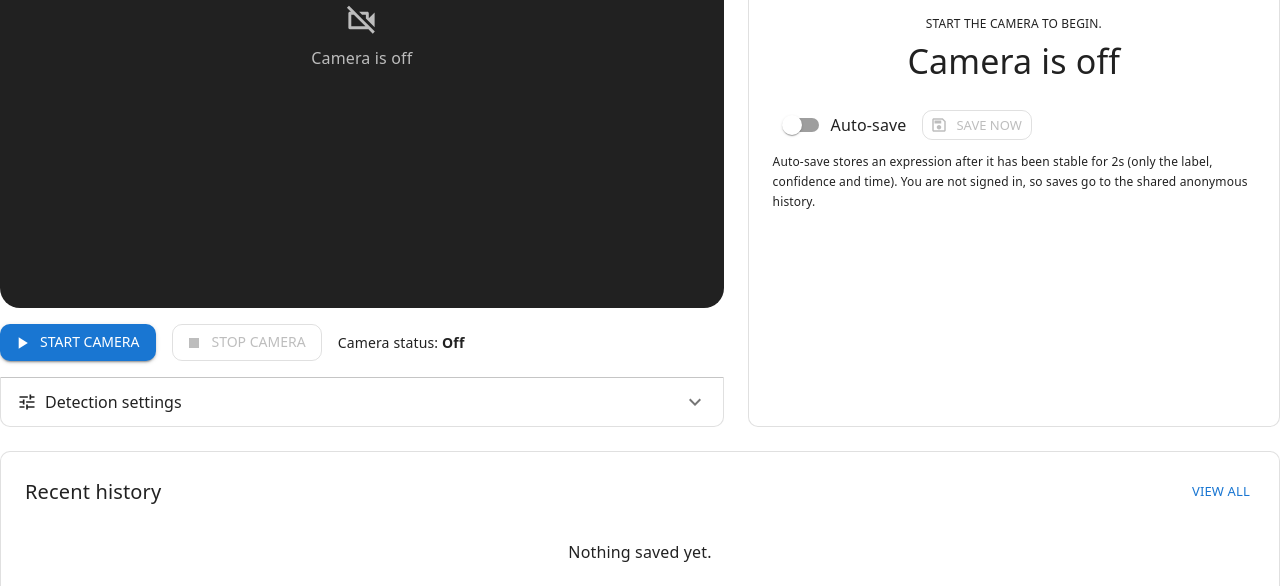
Test: HomePage › explains how to fix a denied camera permission
The image size is (1280, 586).
(page scrolled)
Click the button "Start camera".
click(78, 343)  # box [0,324,156,361]
(page scrolled)
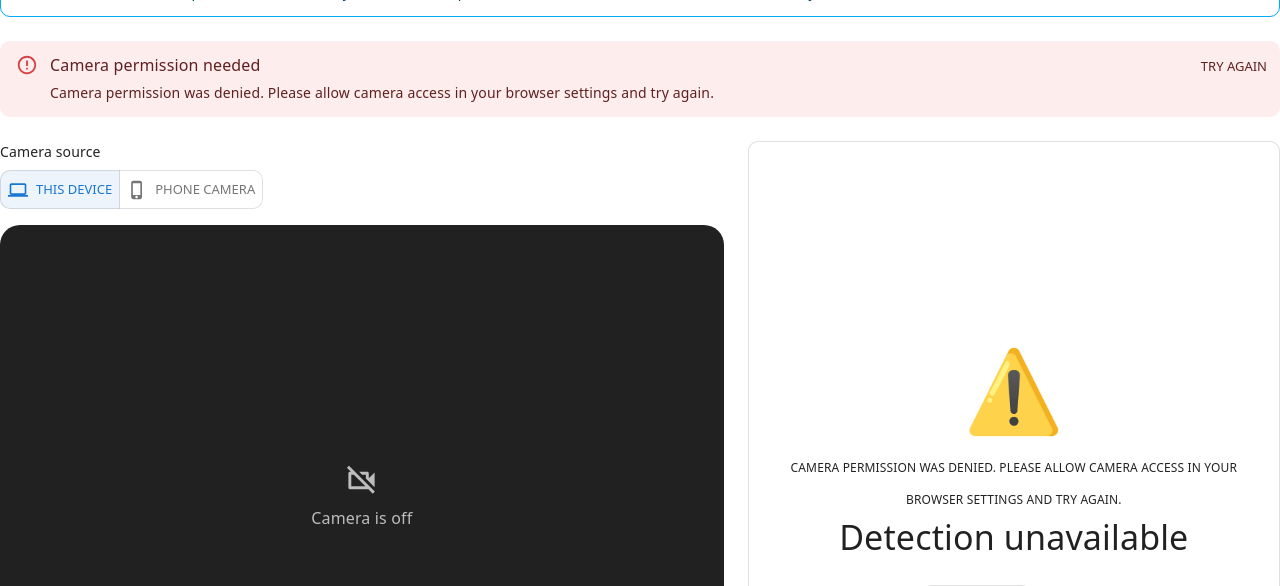
Check: the text "Camera permission needed" is shown, box [50,54,260,76]
Check: the button "Try again" is shown, box [1196,51,1272,82]
